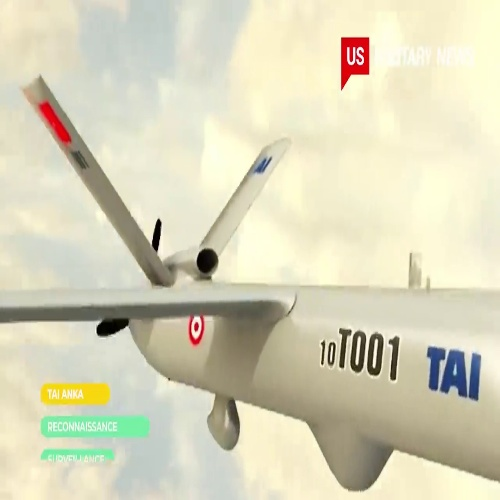uav702: (5, 79, 500, 492)
